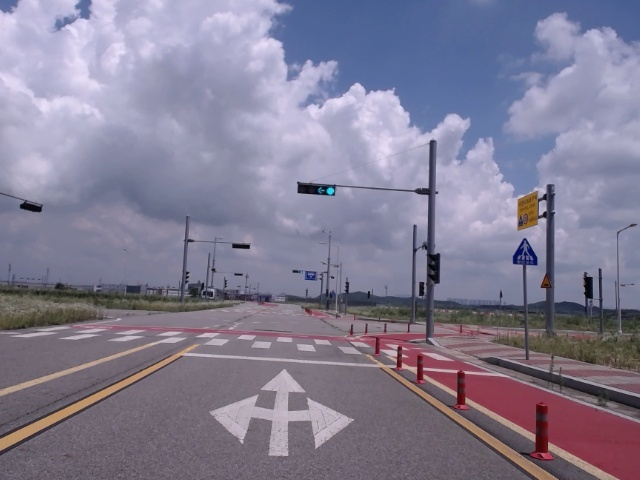all_green_4: (297, 181, 337, 197)
